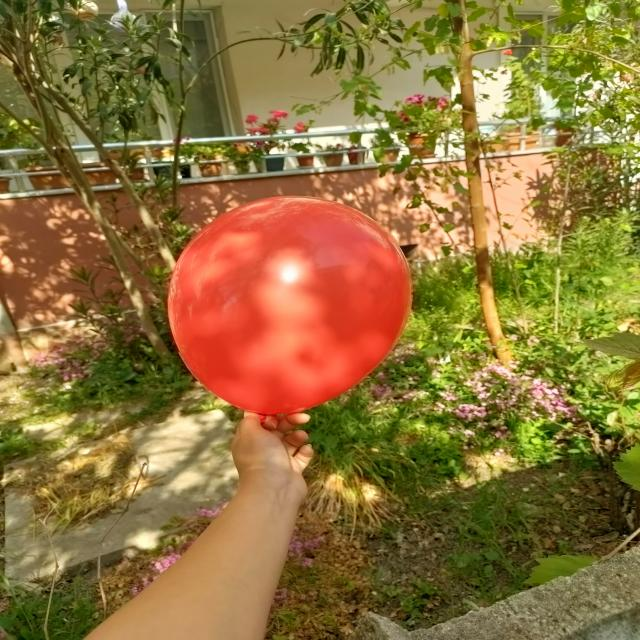red: (170, 197, 412, 415)
